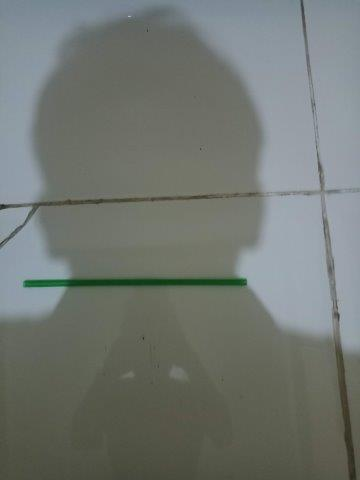sedotan: (24, 279, 247, 287)
